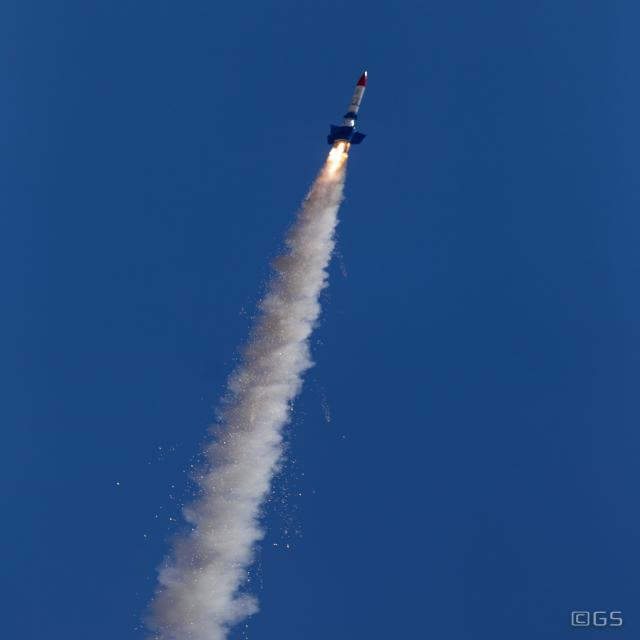Rocket: (326, 71, 369, 145)
